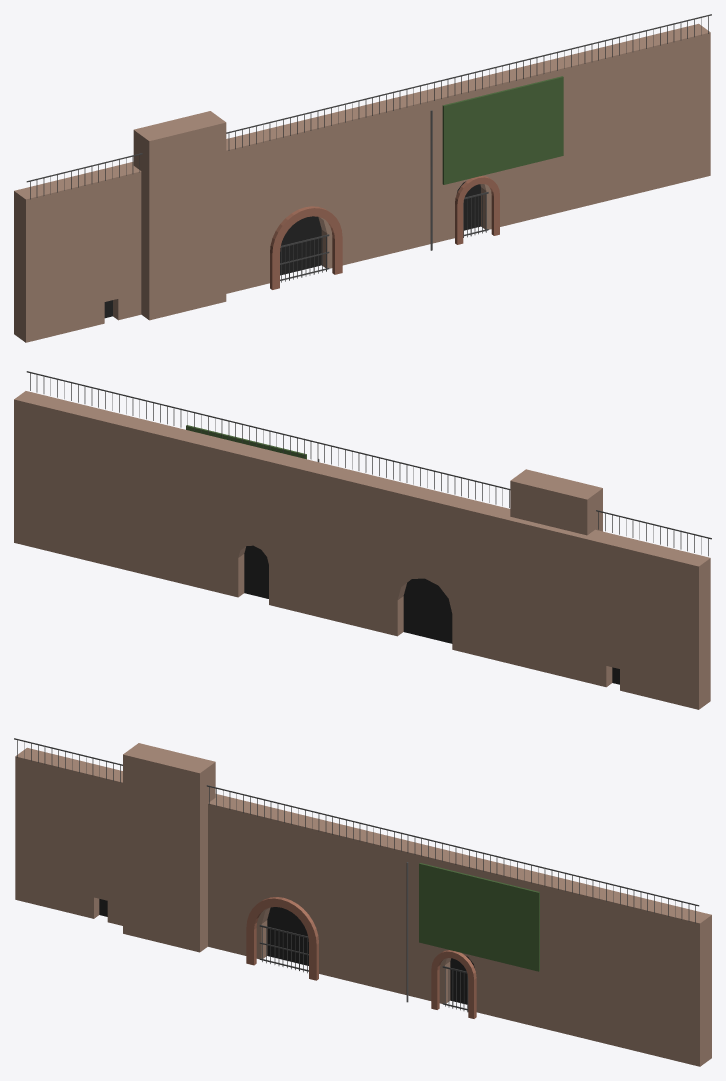
Rendered from redcliffe-caves-entrance.glb.
The picture shows the model from 3 angles, top to bottom: view 1: azimuth 30°, elevation 25°; view 2: azimuth 150°, elevation 25°; view 3: azimuth 330°, elevation 25°; orthographic projection.
Parts seen in each view (by area): view 1: arch-east-brick; view 2: arch-east-brick; view 3: arch-east-brick.
Part boxes in pixels (x1,y1,x2,y2): arch-east-brick: [14, 14, 711, 342]; arch-east-brick: [14, 371, 711, 709]; arch-east-brick: [14, 738, 711, 1066].
Bounding box in the file's own units: 40 × 10 × 2.
